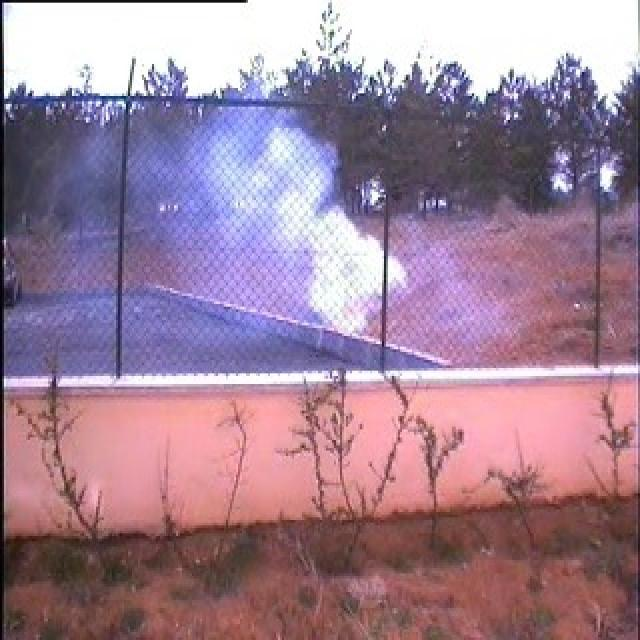Smoke: (188, 105, 404, 338)
